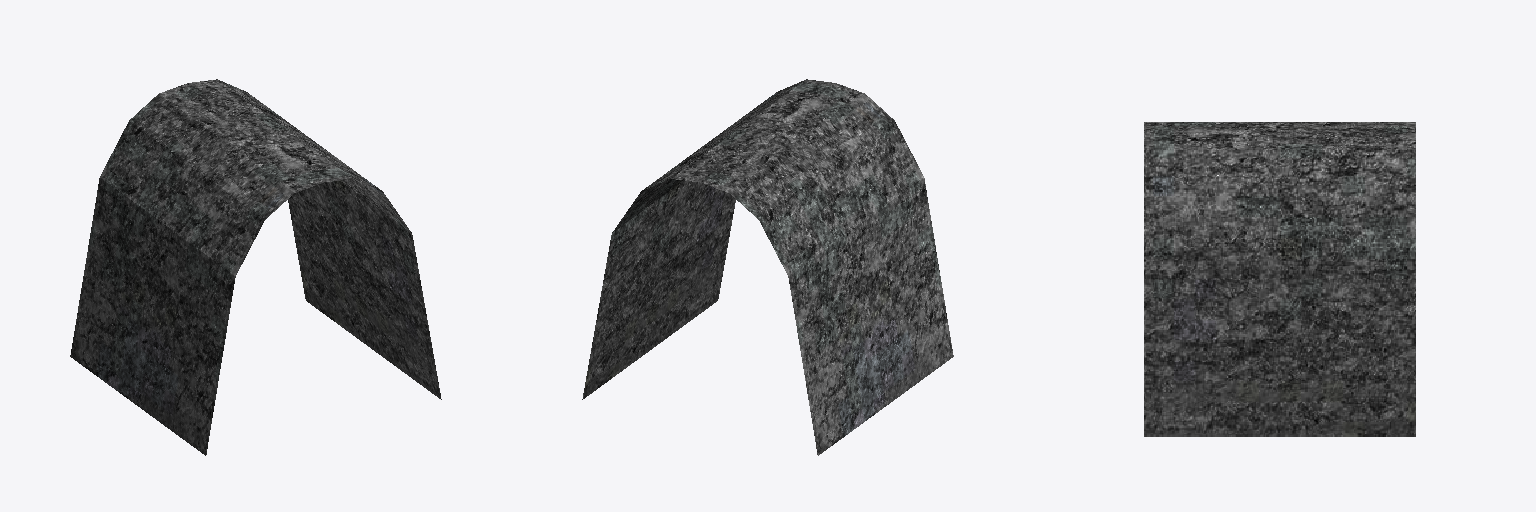
3 views of the same model, side by side, from view 1: azimuth 30°, elevation 25°; view 2: azimuth 150°, elevation 25°; view 3: azimuth 270°, elevation 25° (orthographic).
Visible parts, largest first — view 1: Grid_Grid.003; view 2: Grid_Grid.003; view 3: Grid_Grid.003.
Part boxes in pixels (x1,y1,x2,y2): Grid_Grid.003: (70,79,441,455); Grid_Grid.003: (582,79,953,455); Grid_Grid.003: (1144,122,1415,436).
Size of the model in its own units: 1 by 1 by 1.
1 materials, 1 textured.